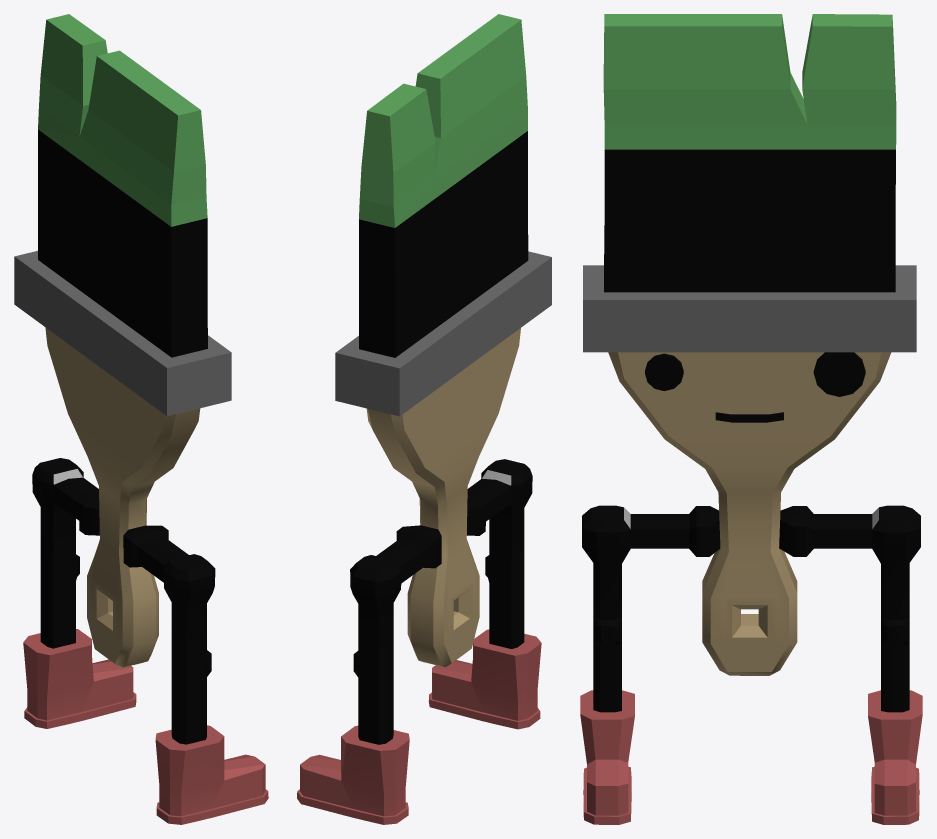
File: PaintBrush.fbx
The picture shows the model from 3 angles, left to right: view 1: azimuth 30°, elevation 25°; view 2: azimuth 150°, elevation 25°; view 3: azimuth 270°, elevation 25°; orthographic projection. The views are drawn at different scales.
Parts seen in each view (by area): view 1: pCylinder12; view 2: pCylinder12; view 3: pCylinder12.
Part boxes in pixels (<box>): pCylinder12: <box>14,14,268,824</box>; pCylinder12: <box>297,14,551,824</box>; pCylinder12: <box>580,14,922,824</box>.
Size of the model in its own units: 5.21 by 32.63 by 13.23.
